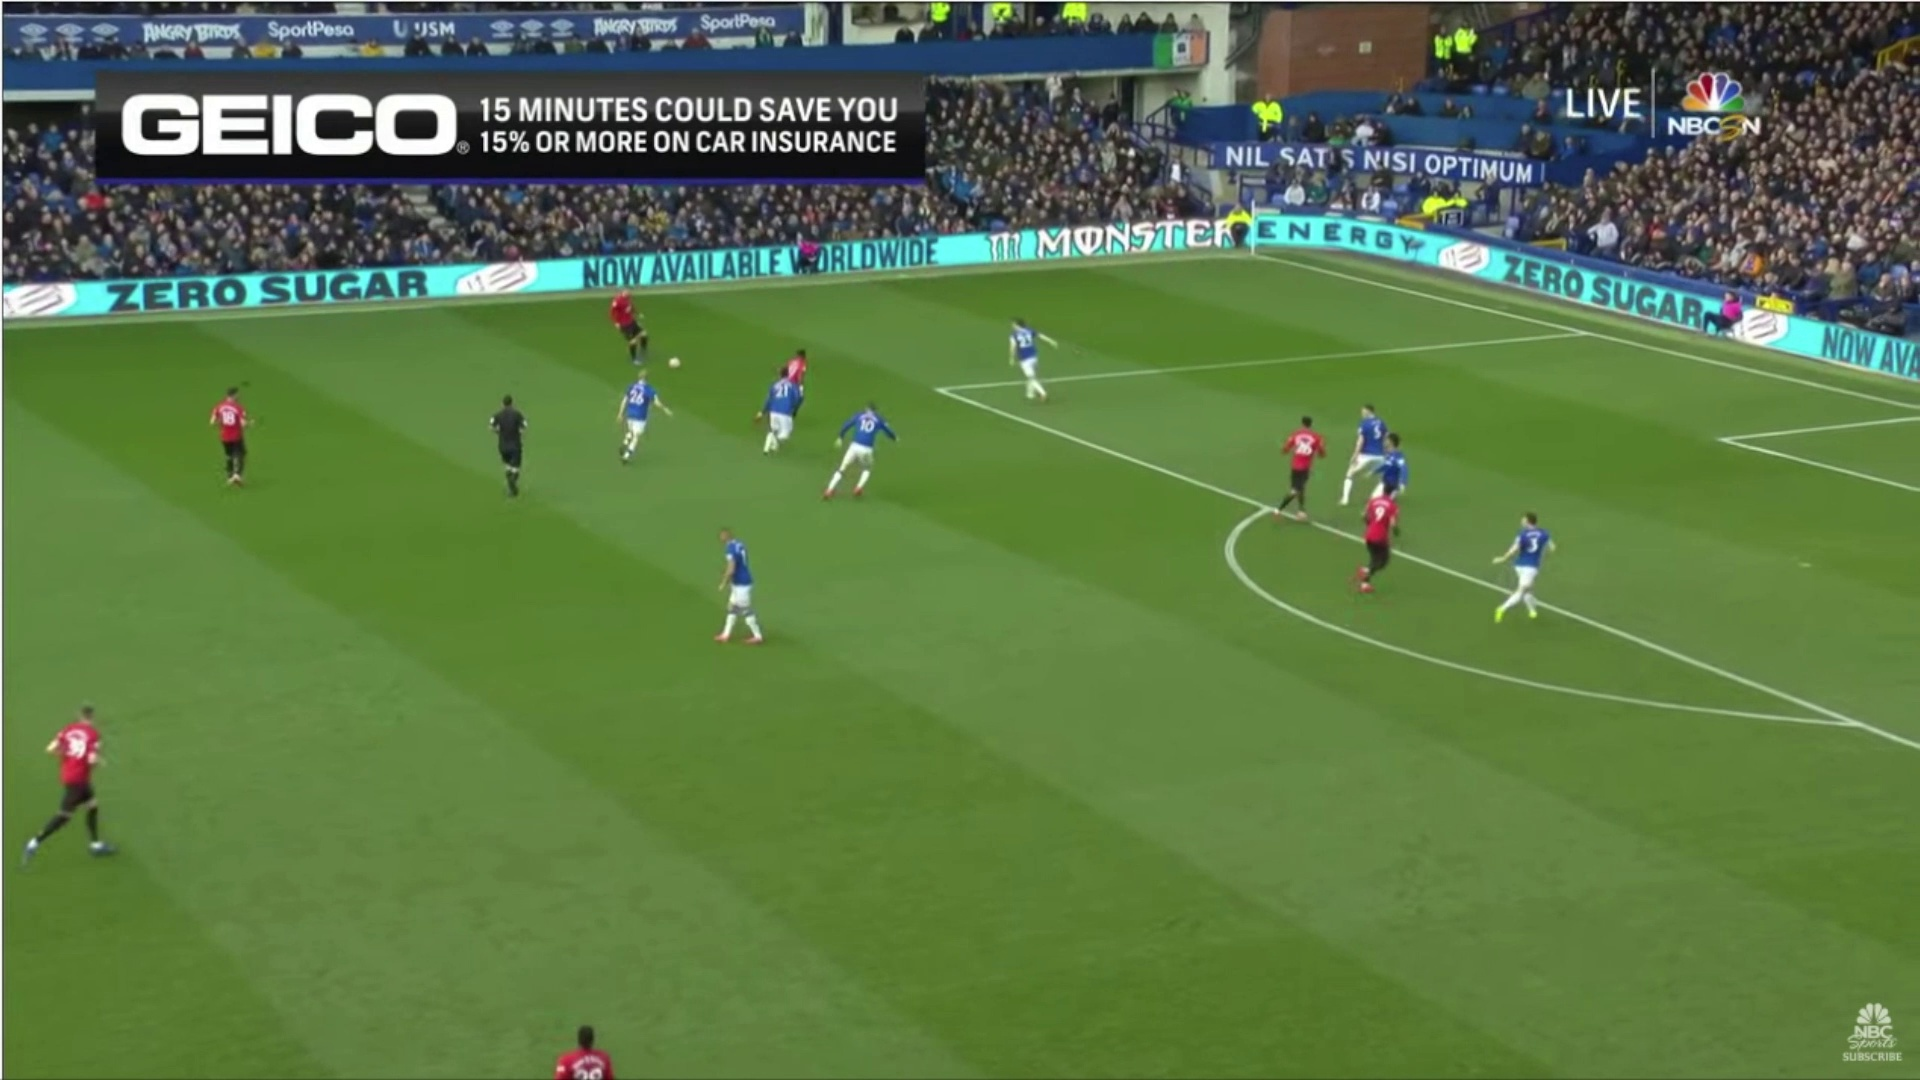ball: (664, 350, 687, 369)
player: (14, 679, 149, 877), (1479, 508, 1577, 625), (968, 319, 1095, 408), (820, 402, 906, 519), (199, 363, 268, 496), (1262, 406, 1333, 519), (618, 360, 681, 469), (1333, 392, 1389, 513), (1370, 419, 1425, 527), (747, 367, 810, 456), (545, 1008, 622, 1080), (1347, 490, 1397, 596), (608, 279, 662, 367), (770, 327, 822, 396)
